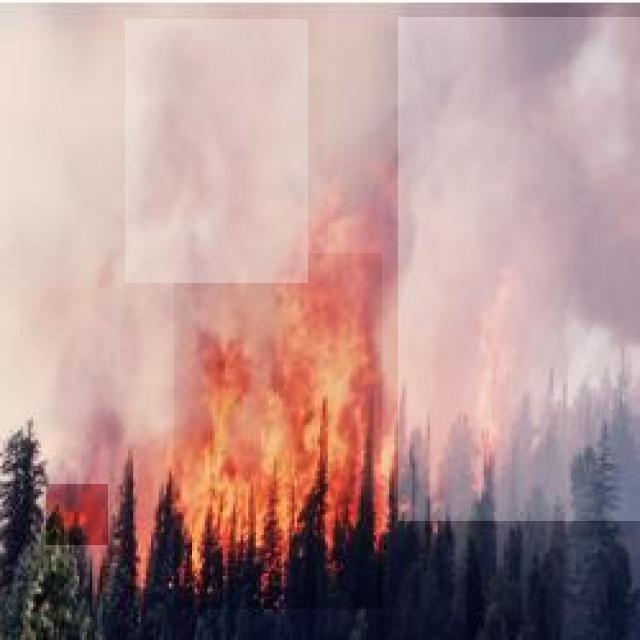Fire: (174, 253, 382, 609), (477, 306, 502, 488), (46, 484, 108, 545)
Smoke: (398, 17, 640, 521), (125, 20, 308, 284), (46, 294, 159, 456)
